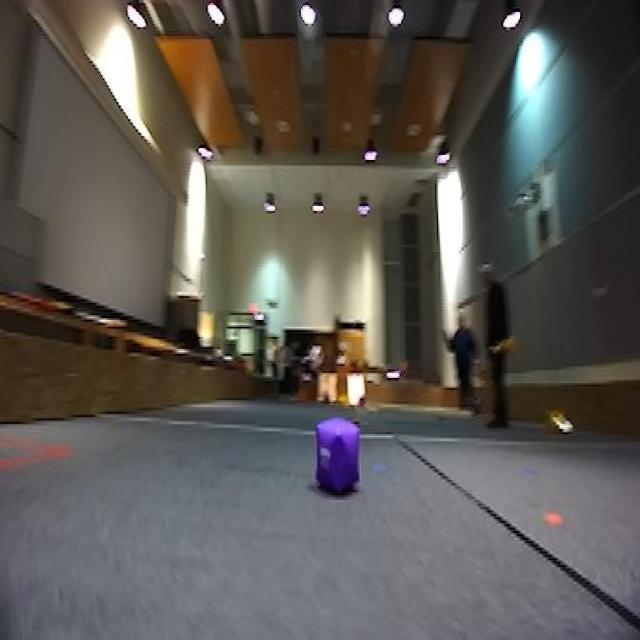frc_cone: (548, 407, 575, 436), (496, 334, 515, 354), (336, 390, 352, 408)
frc_cube: (315, 419, 362, 497), (358, 392, 372, 410), (321, 393, 332, 410)
